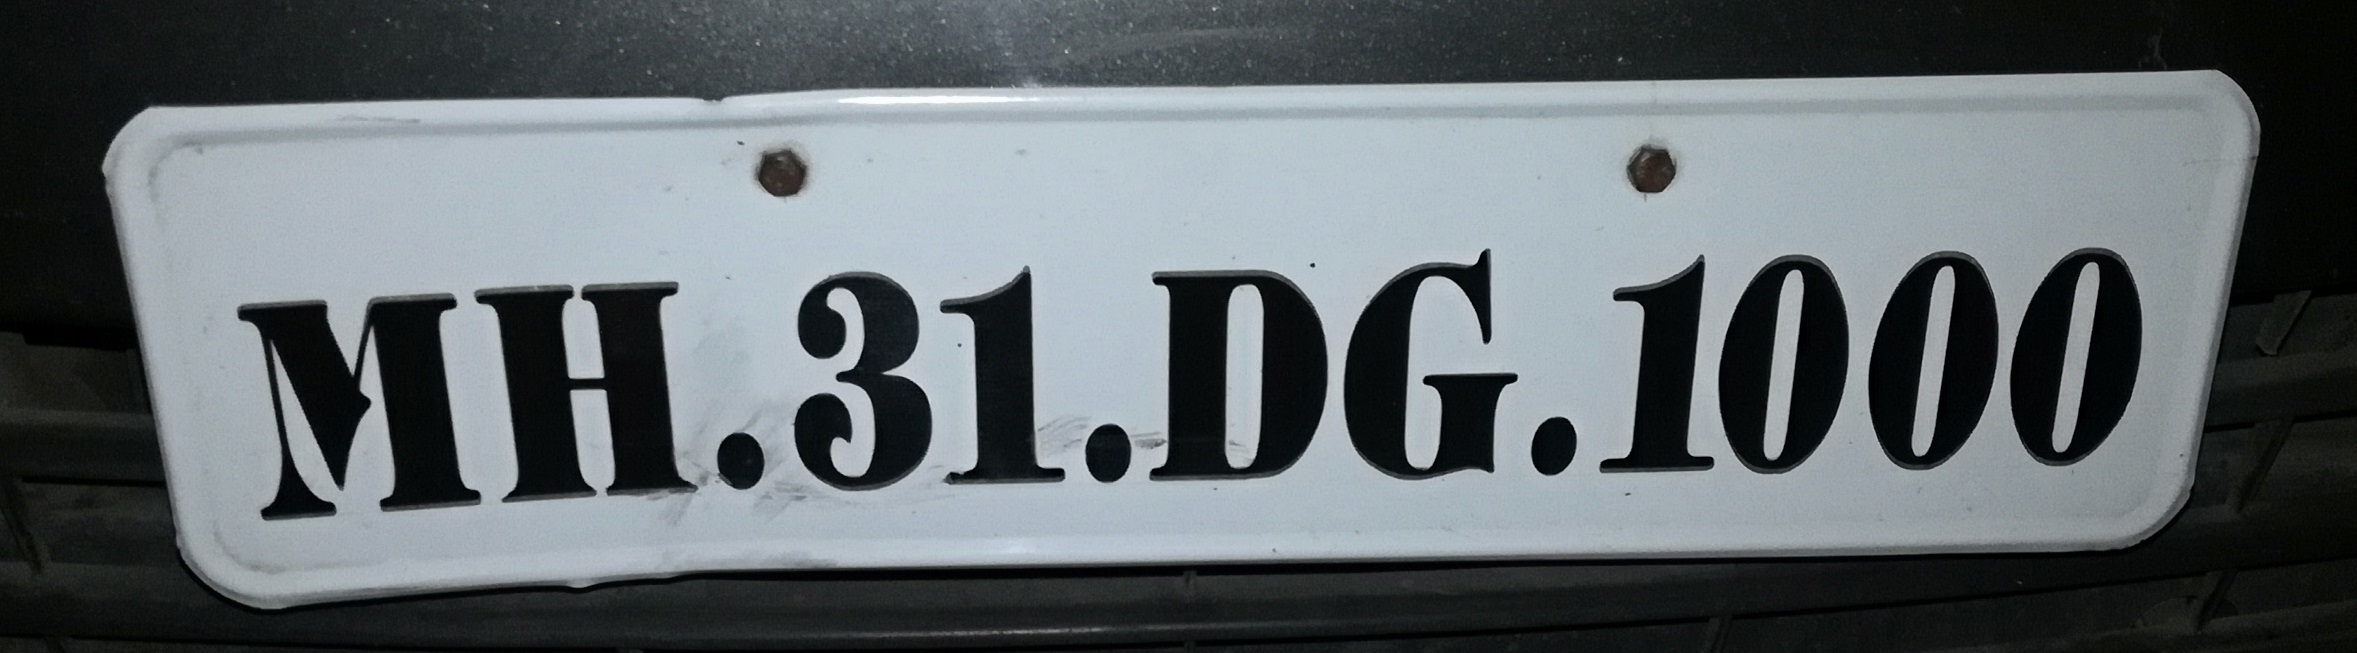numberplate: (102, 73, 2252, 620)
